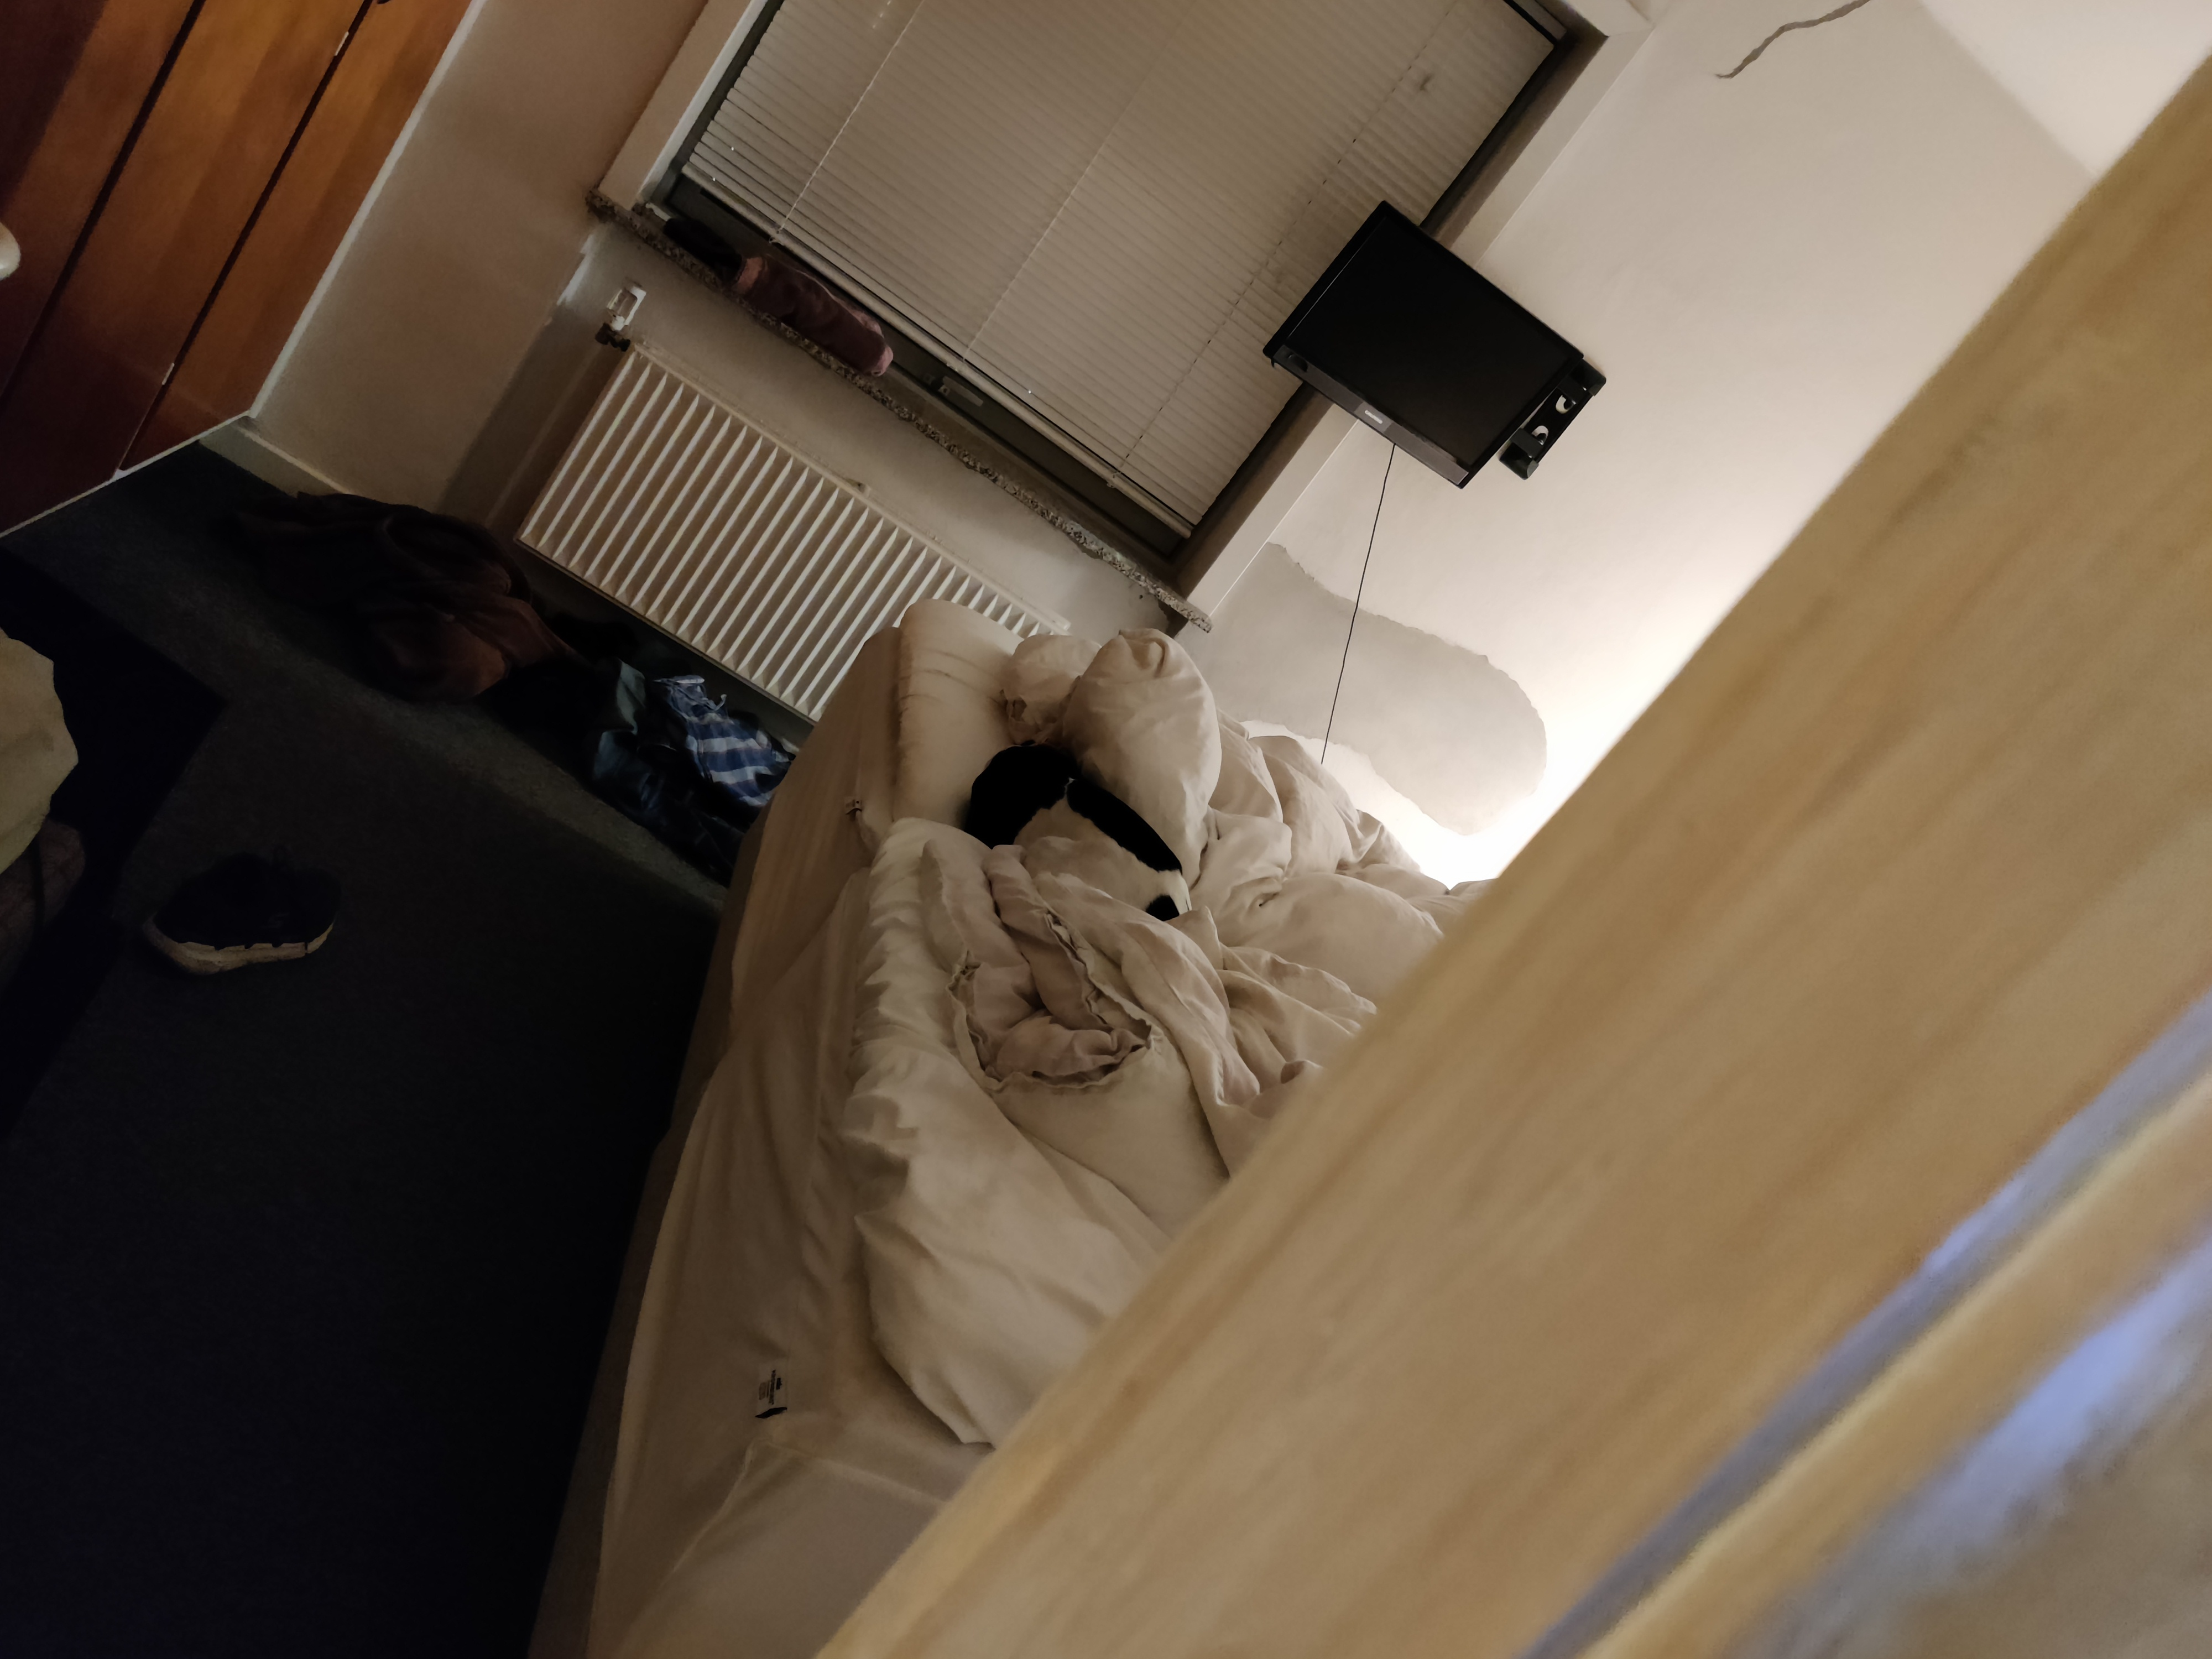Dog: (967, 725, 1191, 927)
